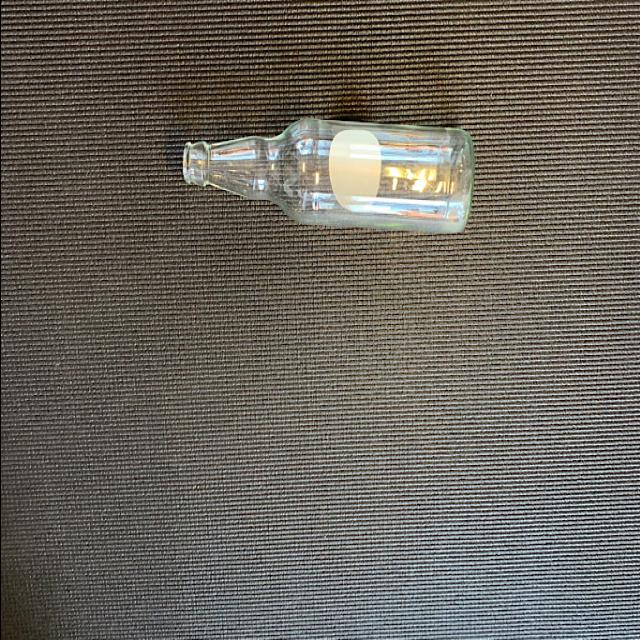litter: (178, 112, 471, 236)
